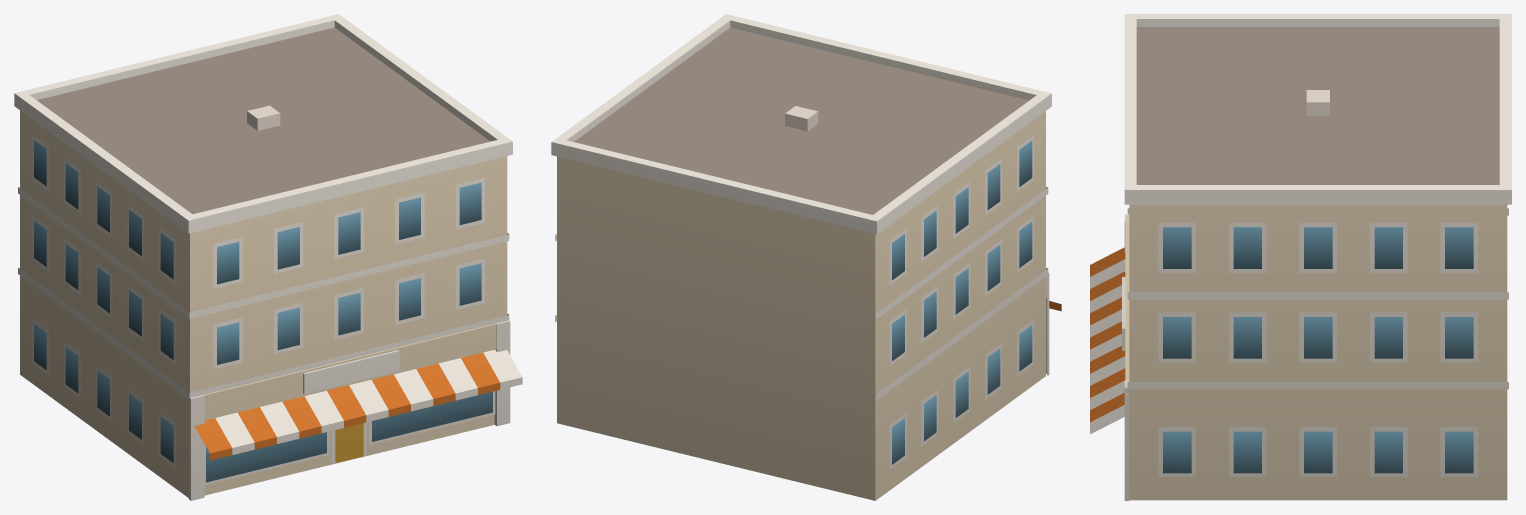
Rendered from winter_s1_far.glb.
The picture shows the model from 3 angles, left to right: view 1: azimuth 30°, elevation 25°; view 2: azimuth 150°, elevation 25°; view 3: azimuth 270°, elevation 25°; orthographic projection. The views are drawn at different scales.
Parts seen in each view (by area): view 1: winter_s1_far; view 2: winter_s1_far; view 3: winter_s1_far.
Part boxes in pixels (<box>): winter_s1_far: <box>14,14,522,500</box>; winter_s1_far: <box>551,14,1061,500</box>; winter_s1_far: <box>1090,14,1511,500</box>.
Bounding box in the file's own units: 14.32 × 12.07 × 14.51.
1 material, 1 textured.
